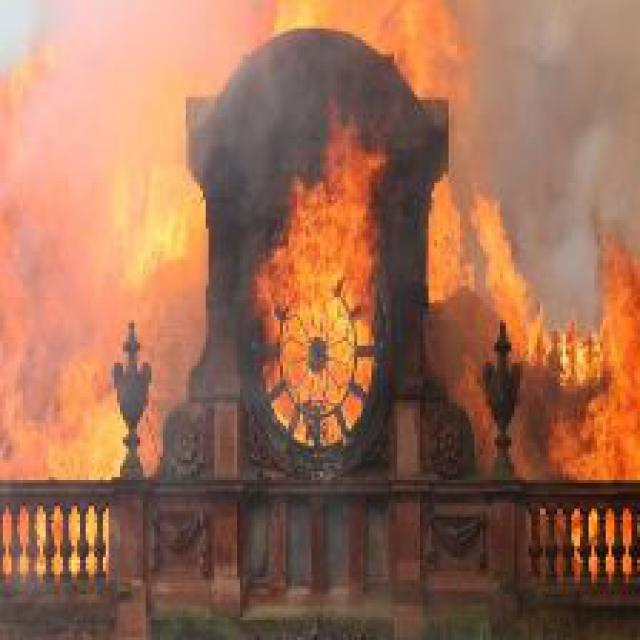fire: (3, 29, 188, 474), (434, 185, 637, 486), (251, 94, 403, 446)
